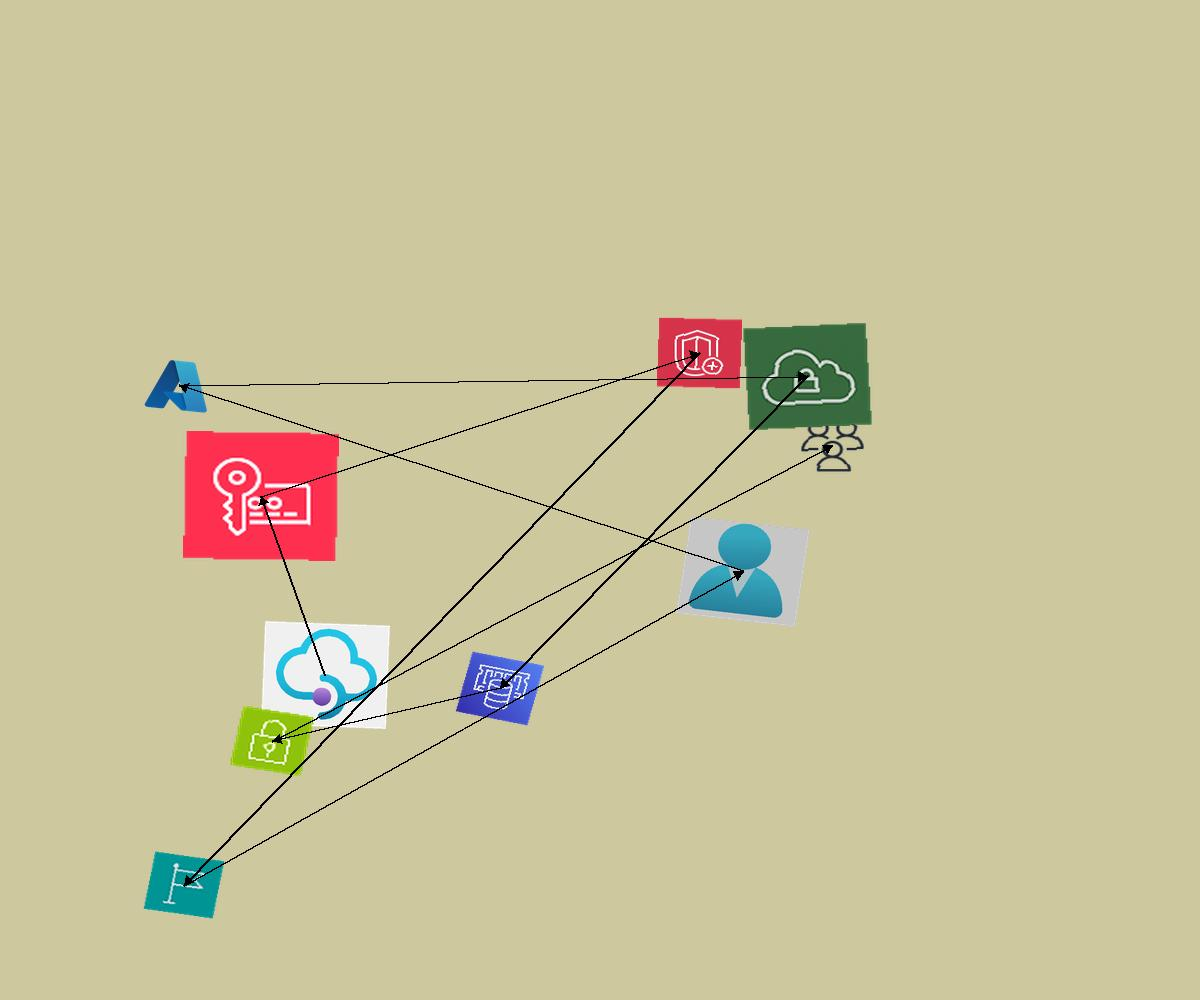AWS-ElastiCache: (455, 651, 545, 726)
AWS-Key-Management-Service: (183, 431, 339, 561)
AWS-Private_vpc: (742, 322, 873, 431)
AWS-Public-subnet: (229, 705, 315, 777)
AWS-Region: (143, 851, 225, 919)
AWS-Res_Users: (797, 416, 868, 475)
AWS-Shield: (656, 317, 743, 389)
Azure_api_gateway: (261, 621, 390, 729)
Azure_services: (141, 354, 217, 417)
Azure_users: (676, 516, 810, 627)
